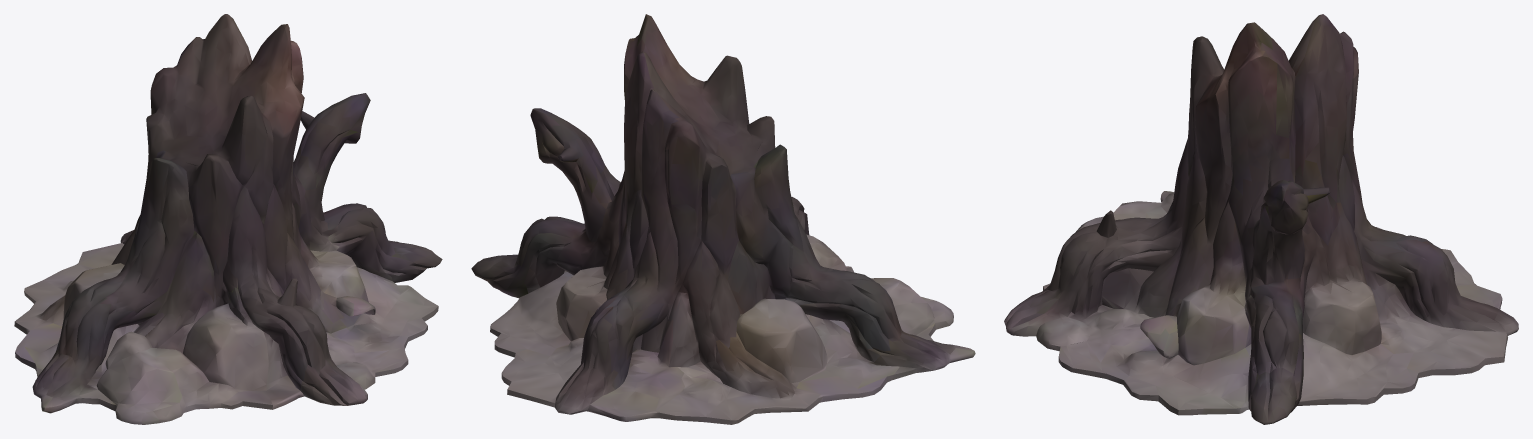
File: tocon_seco.glb
3 renders of one model, left to right at view 1: azimuth 30°, elevation 25°; view 2: azimuth 150°, elevation 25°; view 3: azimuth 270°, elevation 25°, orthographic. The views are drawn at different scales.
Parts seen in each view (by area): view 1: tocon_seco_malla; view 2: tocon_seco_malla; view 3: tocon_seco_malla.
Part boxes in pixels (box(x1,y1,x2,y2)): tocon_seco_malla: box(14, 14, 442, 424); tocon_seco_malla: box(471, 14, 975, 424); tocon_seco_malla: box(1004, 14, 1518, 424).
Bounding box in the file's own units: 0.1726 × 0.1106 × 0.1554.
1 material, 1 textured.
